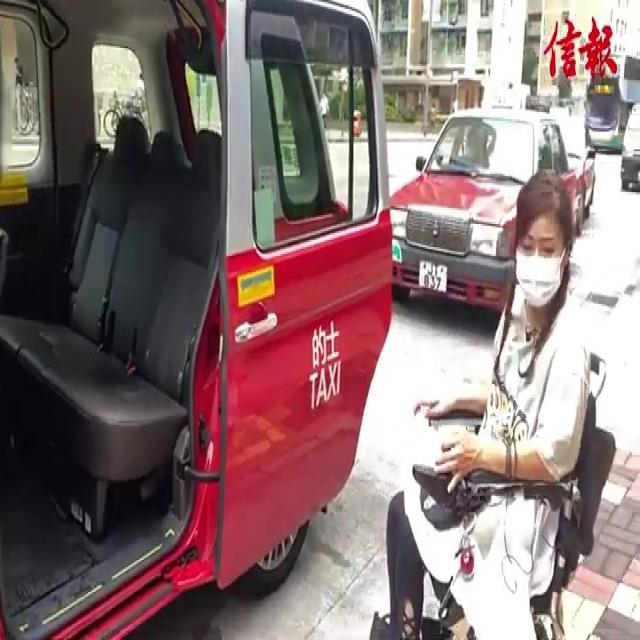wheelchairs: (404, 333, 616, 640)
